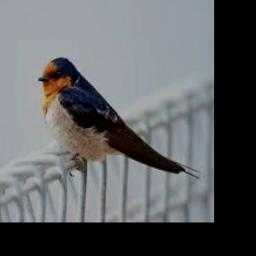Swallow: (38, 57, 201, 179)
